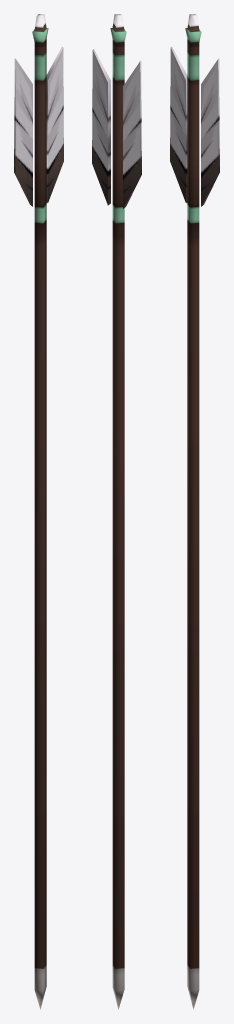
The model's file is Rio_000_Arrow.fbx.
3 views of the same model, side by side, from view 1: azimuth 30°, elevation 25°; view 2: azimuth 150°, elevation 25°; view 3: azimuth 330°, elevation 25° (orthographic).
Parts seen in each view (by area): view 1: Rio_000_Arrow; view 2: Rio_000_Arrow; view 3: Rio_000_Arrow.
Part boxes in pixels (x1,y1,x2,y2): Rio_000_Arrow: (14,14,63,1009); Rio_000_Arrow: (92,14,141,1009); Rio_000_Arrow: (170,14,219,1009).
Bounding box in the file's own units: 0.054 × 1.05 × 0.0159.
Materials: 1 (1 with a texture image).
